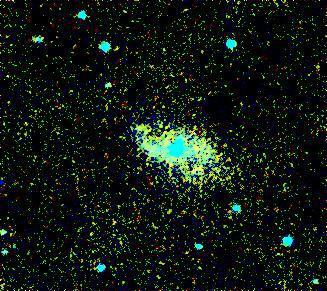star: (127, 112, 157, 142)
